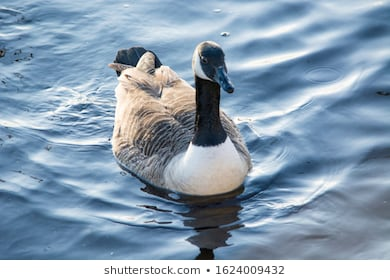duck: (86, 26, 261, 200)
